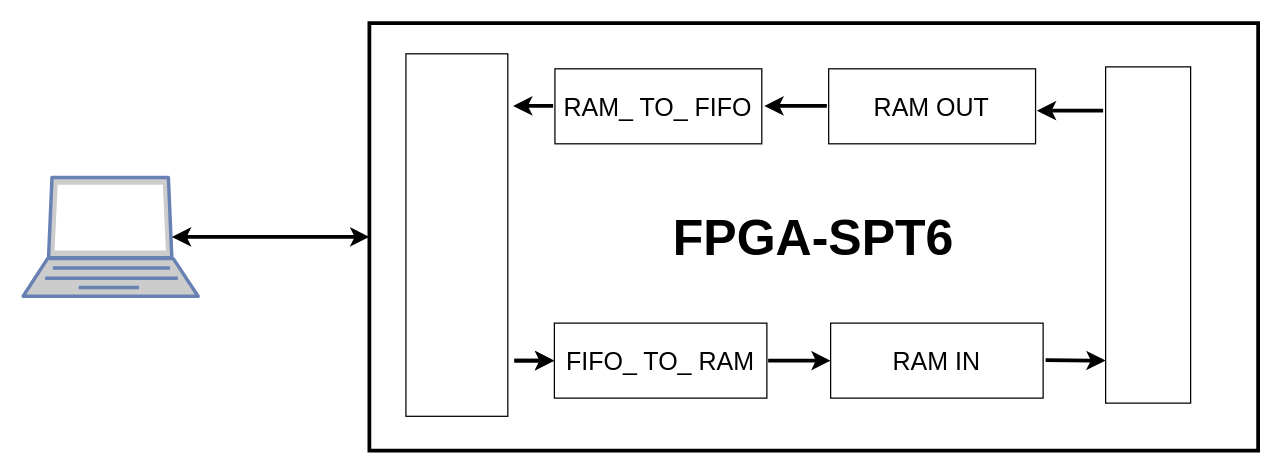
This 1281x474 diagram has some shape labels left out. Each missing label, with the box of its shape:
Laptop: (21, 176, 199, 297)
TE3-07-N630: (1104, 66, 1191, 403)
UART communication: (405, 53, 508, 416)
